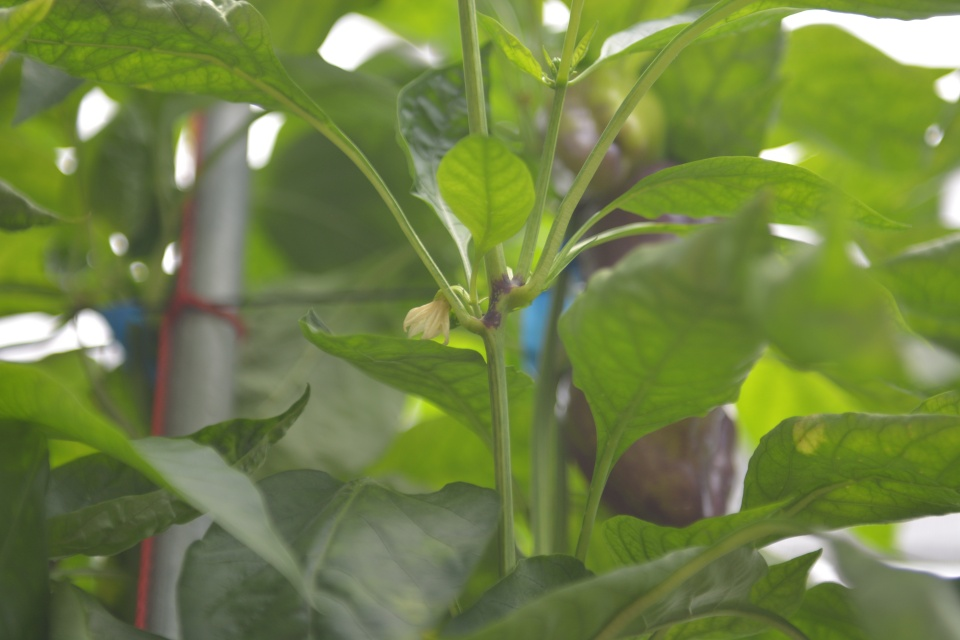flower: (400, 296, 452, 348)
fruit: (552, 366, 751, 530), (563, 155, 726, 285), (534, 54, 670, 206)
